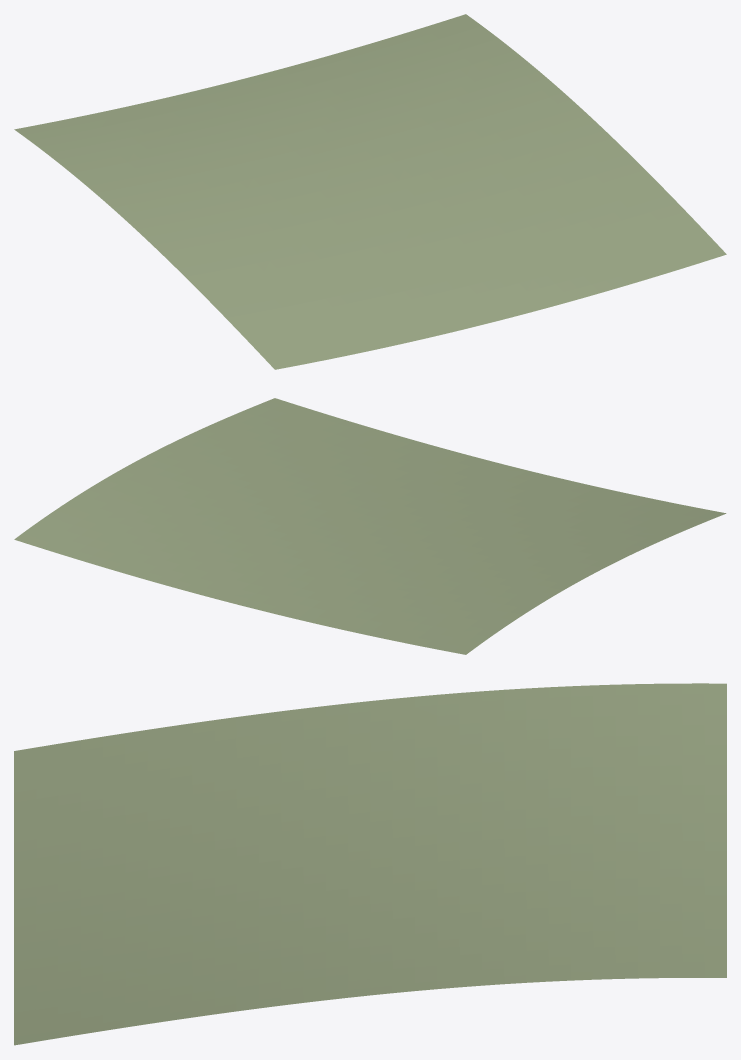
The model's file is valley-4-15.glb.
The picture shows the model from 3 angles, top to bottom: view 1: azimuth 30°, elevation 25°; view 2: azimuth 150°, elevation 25°; view 3: azimuth 270°, elevation 25°; orthographic projection. The views are drawn at different scales.
Visible parts, largest first — view 1: valley-4-15; view 2: valley-4-15; view 3: valley-4-15.
Boxes of the visible parts, x1=… form: valley-4-15: x1=14, y1=14, x2=726, y2=369; valley-4-15: x1=14, y1=398, x2=726, y2=654; valley-4-15: x1=14, y1=683, x2=726, y2=1045.
Bounding box in the file's own units: 256 × 32.62 × 256.
